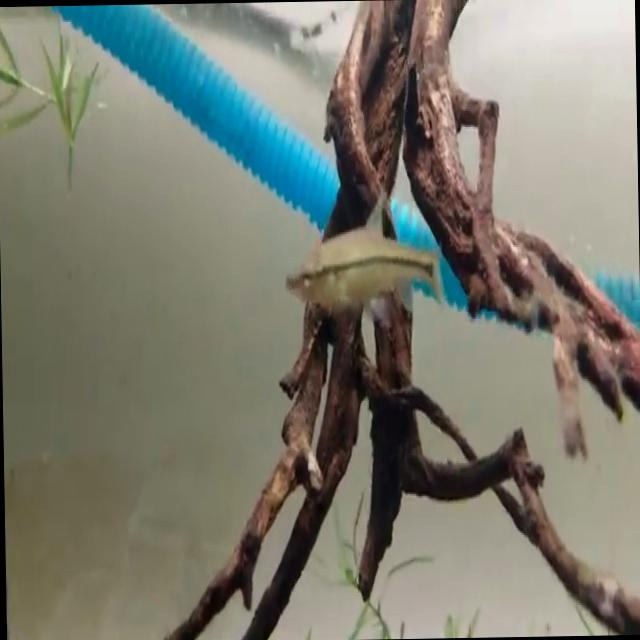Cakil Baligi: (282, 197, 439, 320)
